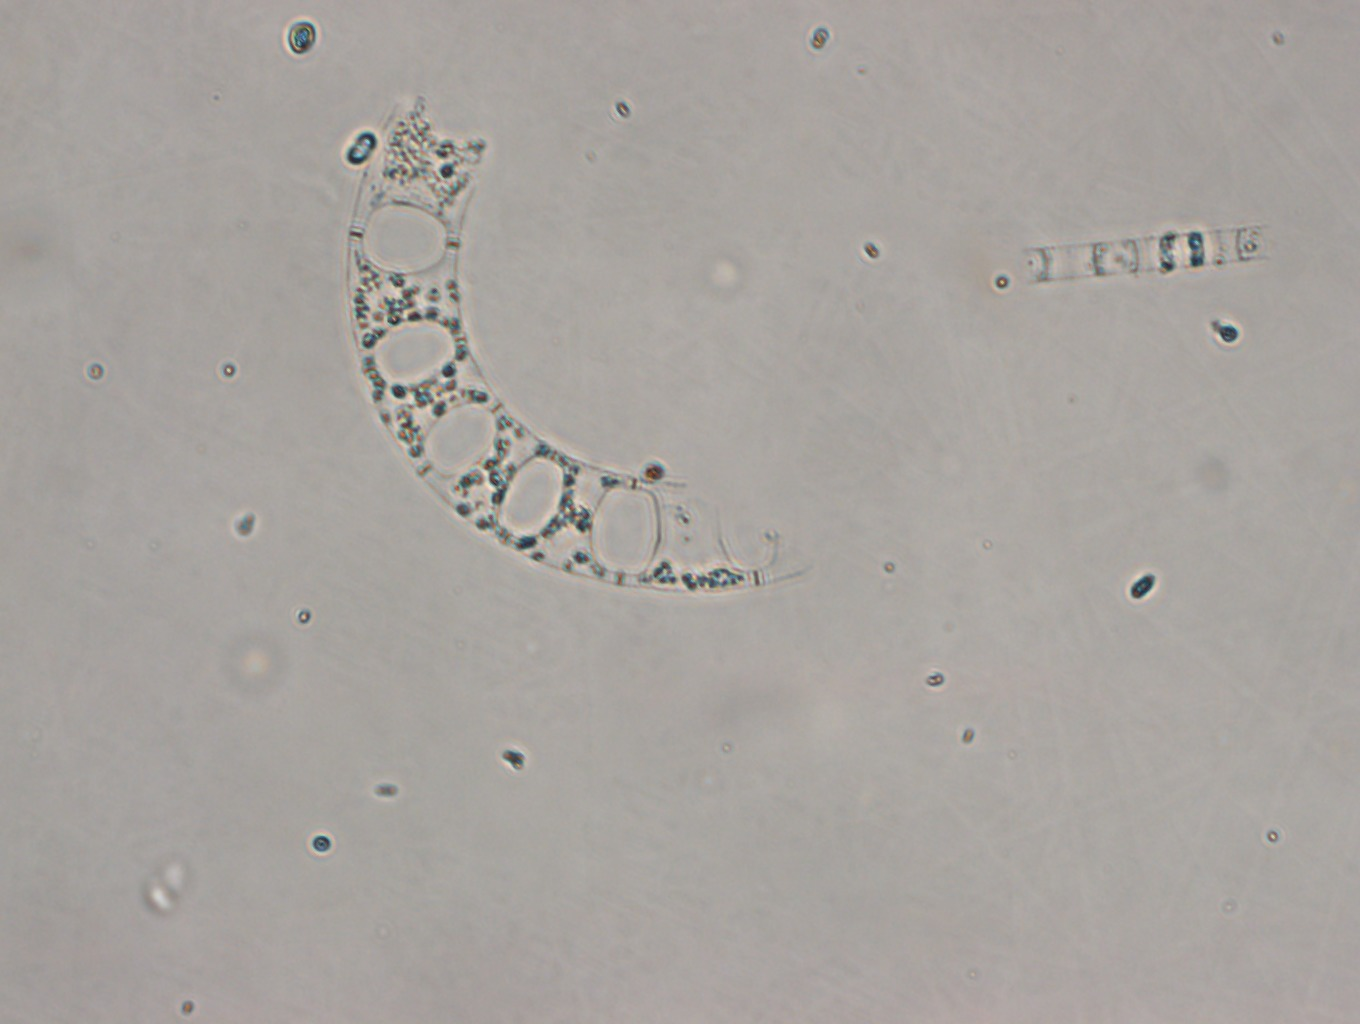eucampia: (343, 98, 816, 596)
skeletonema: (1022, 223, 1276, 285)
